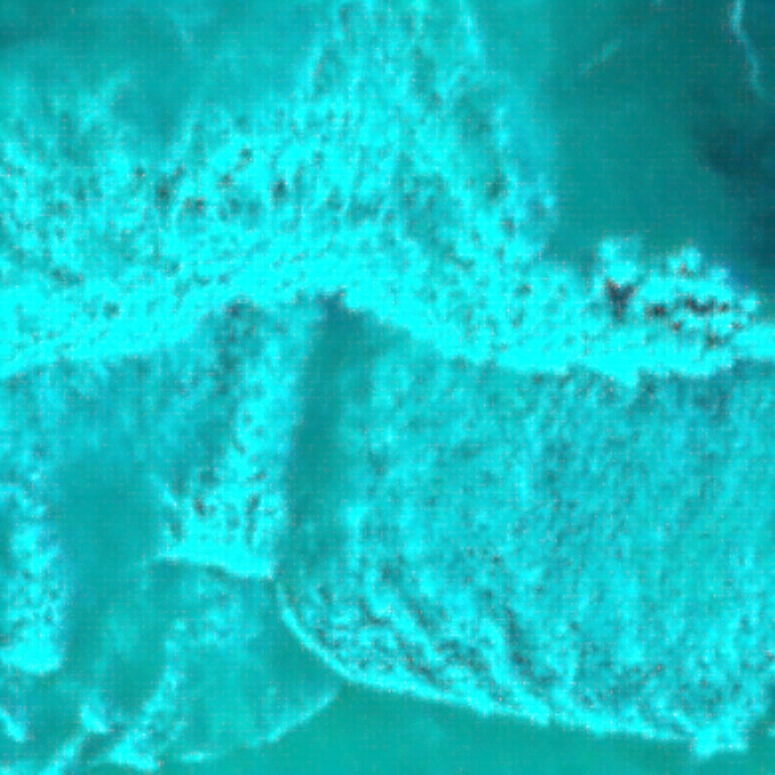rip_current: (242, 260, 446, 613)
